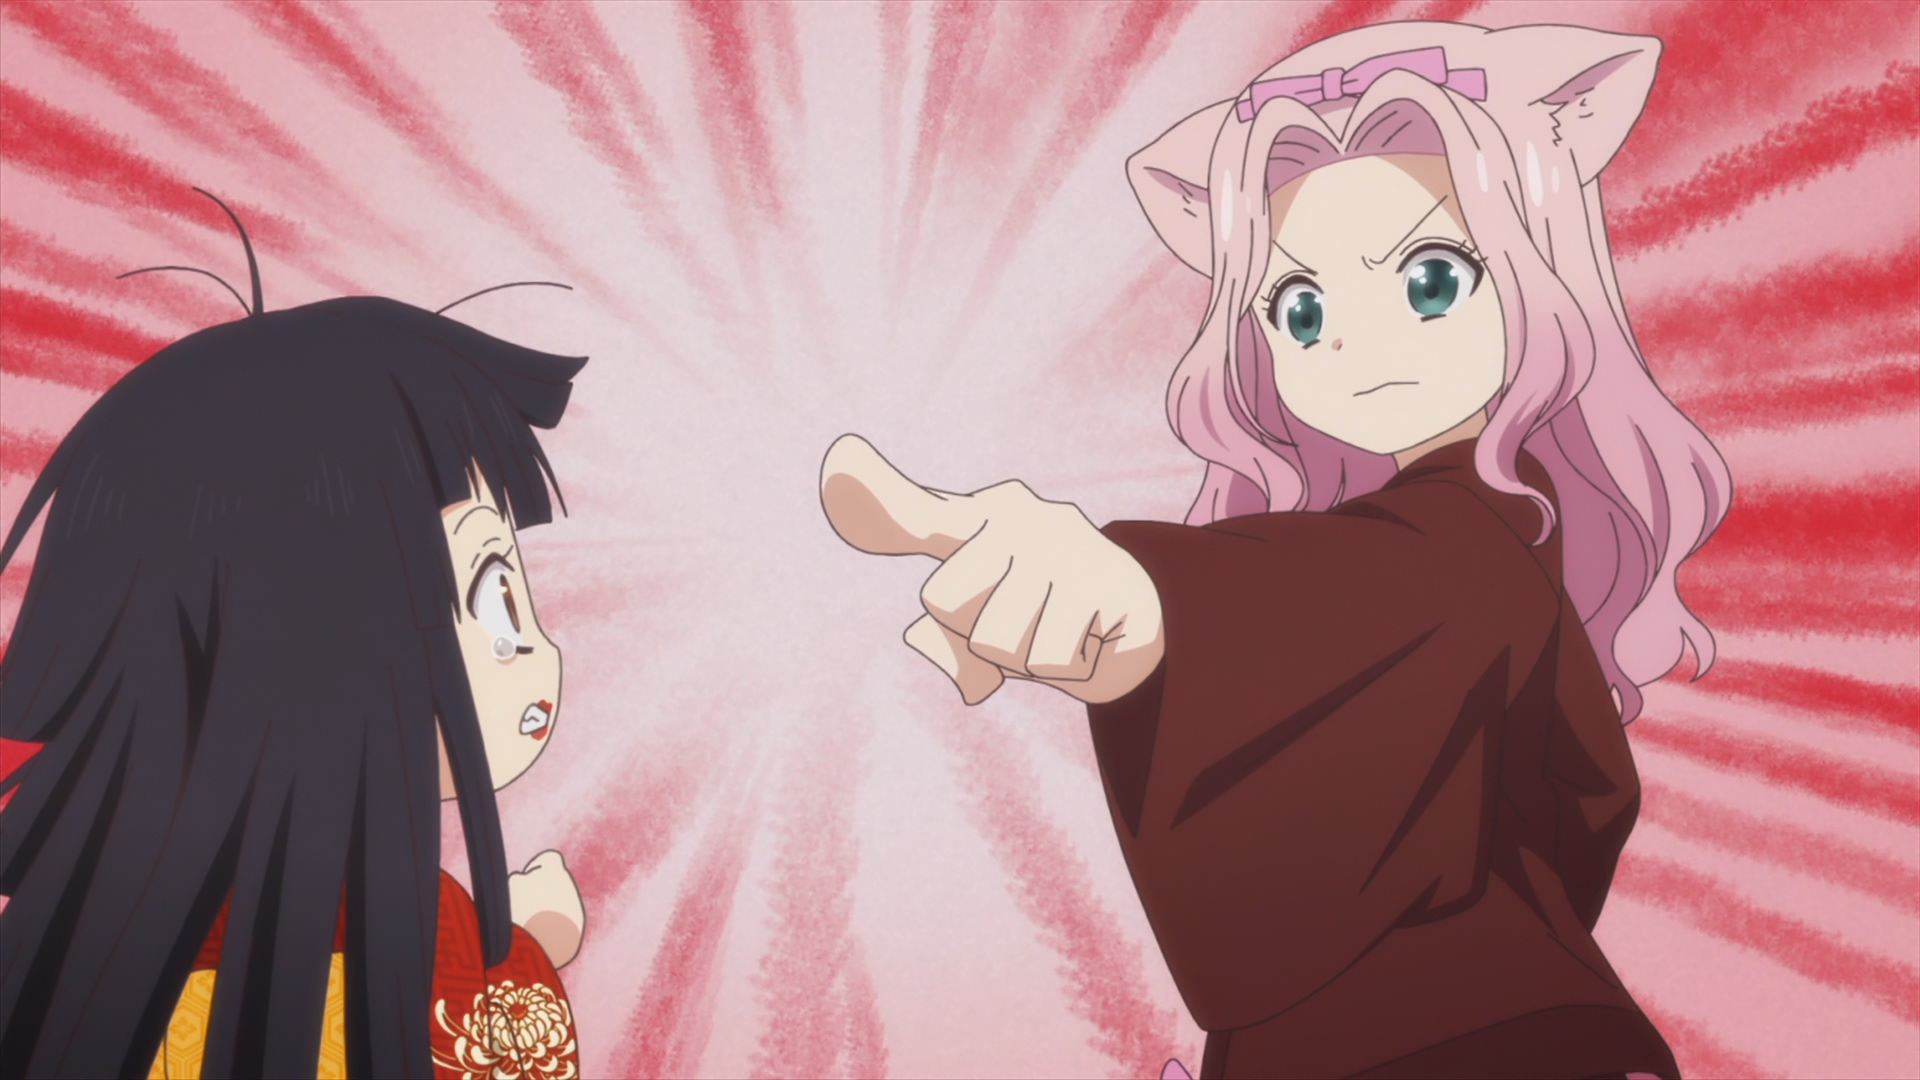莲: (819, 21, 1731, 1080)
阿菊: (1, 187, 588, 1080)
